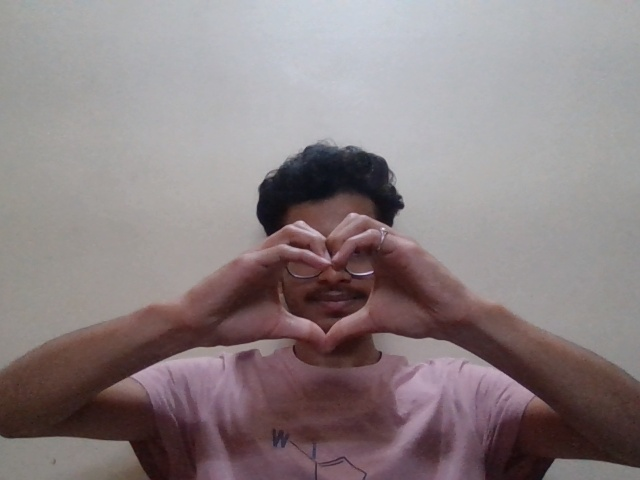silent-voice: (217, 205, 456, 388)
